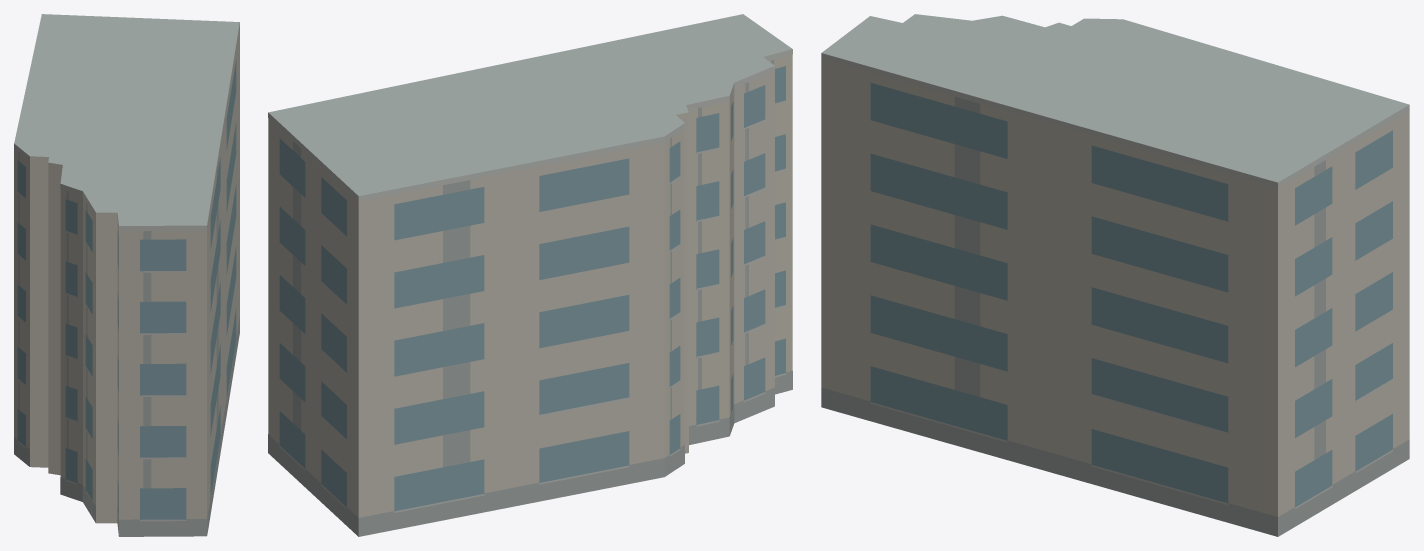
Rendered from survey-upis-32495378.glb.
The picture shows the model from 3 angles, left to right: view 1: azimuth 30°, elevation 25°; view 2: azimuth 150°, elevation 25°; view 3: azimuth 270°, elevation 25°; orthographic projection. The views are drawn at different scales.
Parts seen in each view (by area): view 1: survey-upis-32495378.tmp; view 2: survey-upis-32495378.tmp; view 3: survey-upis-32495378.tmp.
Part boxes in pixels (bbox=[...]): survey-upis-32495378.tmp: bbox=[14, 14, 239, 536]; survey-upis-32495378.tmp: bbox=[268, 14, 792, 536]; survey-upis-32495378.tmp: bbox=[821, 14, 1409, 536].
Bounding box in the file's own units: 15.42 × 15.1 × 22.73.
